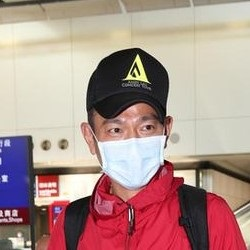mask: (84, 126, 169, 191)
